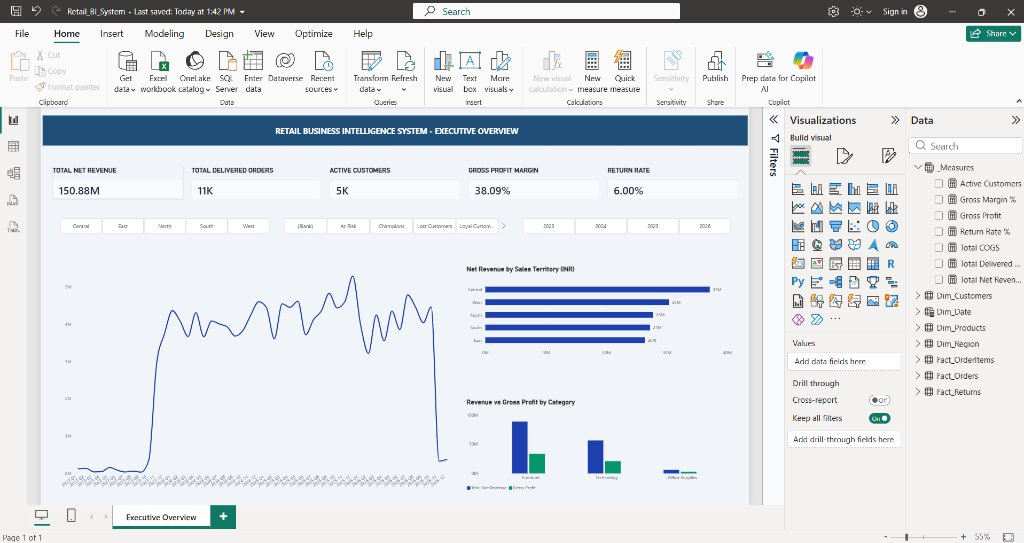

Layout of this report page (visuals, bound fields, positions):
{"tool":"powerbi","page":{"name":"Executive Overview","canvas":[1920,1080],"ordinal":0},"visuals":[{"type":"shape","box":[5.4,23.5,1911,81.4],"z":0},{"type":"textbox","box":[10.9,50.7,1909.2,54.3],"z":1000},{"type":"cardVisual","title":"TOTAL NET REVENUE","fields":{"Data":["_Measures.Total Net Revenue"]},"box":[32.6,161.1,354.7,88.7],"z":2000},{"type":"cardVisual","title":"TOTAL DELIVERED ORDERS","fields":{"Data":["_Measures.Total Delivered Orders"]},"box":[409,161.1,351.1,90.5],"z":3000},{"type":"cardVisual","title":"ACTIVE CUSTOMERS","fields":{"Data":["_Measures.Active Customers"]},"box":[783.6,161.1,354.7,90.5],"z":4000},{"type":"cardVisual","title":"GROSS PROFIT MARGIN","fields":{"Data":["_Measures.Gorss Margin %"]},"box":[1160,161.1,354.7,90.5],"z":5000},{"type":"cardVisual","title":"RETURN RATE","fields":{"Data":["_Measures.Return Rate %"]},"box":[1536.4,161.1,354.7,90.5],"z":6000},{"type":"slicer","fields":{"Values":["Dim_Region.region_name"]},"box":[32.6,300.4,606.2,45.2],"z":7000},{"type":"slicer","fields":{"Values":["Dim_Customers.Segment.1"]},"box":[638.8,300.4,622.5,45.2],"z":8000},{"type":"slicer","fields":{"Values":["Dim_Date.Year"]},"box":[1286.7,300.4,602.6,45.2],"z":9000},{"type":"lineChart","title":"Monthly Net Revenue Trend (2023 - 2026)","fields":{"Category":["Dim_Date.YearMonth"],"Y":["_Measures.Total Net Revenue"]},"box":[32.6,414.4,1093,647.9],"z":10000},{"type":"clusteredBarChart","title":"Net Revenue by Sales Territory (INR)","fields":{"Category":["Dim_Region.region_name"],"Y":["_Measures.Total Net Revenue"]},"box":[1138.3,414.4,751,280.5],"z":11000},{"type":"clusteredColumnChart","title":"Revenue vs Gross Profit by Category","fields":{"Category":["Dim_Products.category"],"Y":["_Measures.Total Net Revenue","_Measures.Gross Profit"]},"box":[1138.3,774.5,751,287.7],"z":12000}]}

Visuals, with their boxes on the page's 1920x1080 design canvas (x1, y1, x2, y2). These are canvas units, not pixel positions in the 1024x543 screenshot, which may show the page scaled, cropped or inside an application window:
shape: {"left": 5, "top": 24, "right": 1916, "bottom": 105}
textbox: {"left": 11, "top": 51, "right": 1920, "bottom": 105}
"TOTAL NET REVENUE" cardVisual: {"left": 33, "top": 161, "right": 387, "bottom": 250}
"TOTAL DELIVERED ORDERS" cardVisual: {"left": 409, "top": 161, "right": 760, "bottom": 252}
"ACTIVE CUSTOMERS" cardVisual: {"left": 784, "top": 161, "right": 1138, "bottom": 252}
"GROSS PROFIT MARGIN" cardVisual: {"left": 1160, "top": 161, "right": 1515, "bottom": 252}
"RETURN RATE" cardVisual: {"left": 1536, "top": 161, "right": 1891, "bottom": 252}
slicer - Dim_Region.region_name: {"left": 33, "top": 300, "right": 639, "bottom": 346}
slicer - Dim_Customers.Segment.1: {"left": 639, "top": 300, "right": 1261, "bottom": 346}
slicer - Dim_Date.Year: {"left": 1287, "top": 300, "right": 1889, "bottom": 346}
"Monthly Net Revenue Trend (2023 - 2026)" lineChart: {"left": 33, "top": 414, "right": 1126, "bottom": 1062}
"Net Revenue by Sales Territory (INR)" clusteredBarChart: {"left": 1138, "top": 414, "right": 1889, "bottom": 695}
"Revenue vs Gross Profit by Category" clusteredColumnChart: {"left": 1138, "top": 774, "right": 1889, "bottom": 1062}
